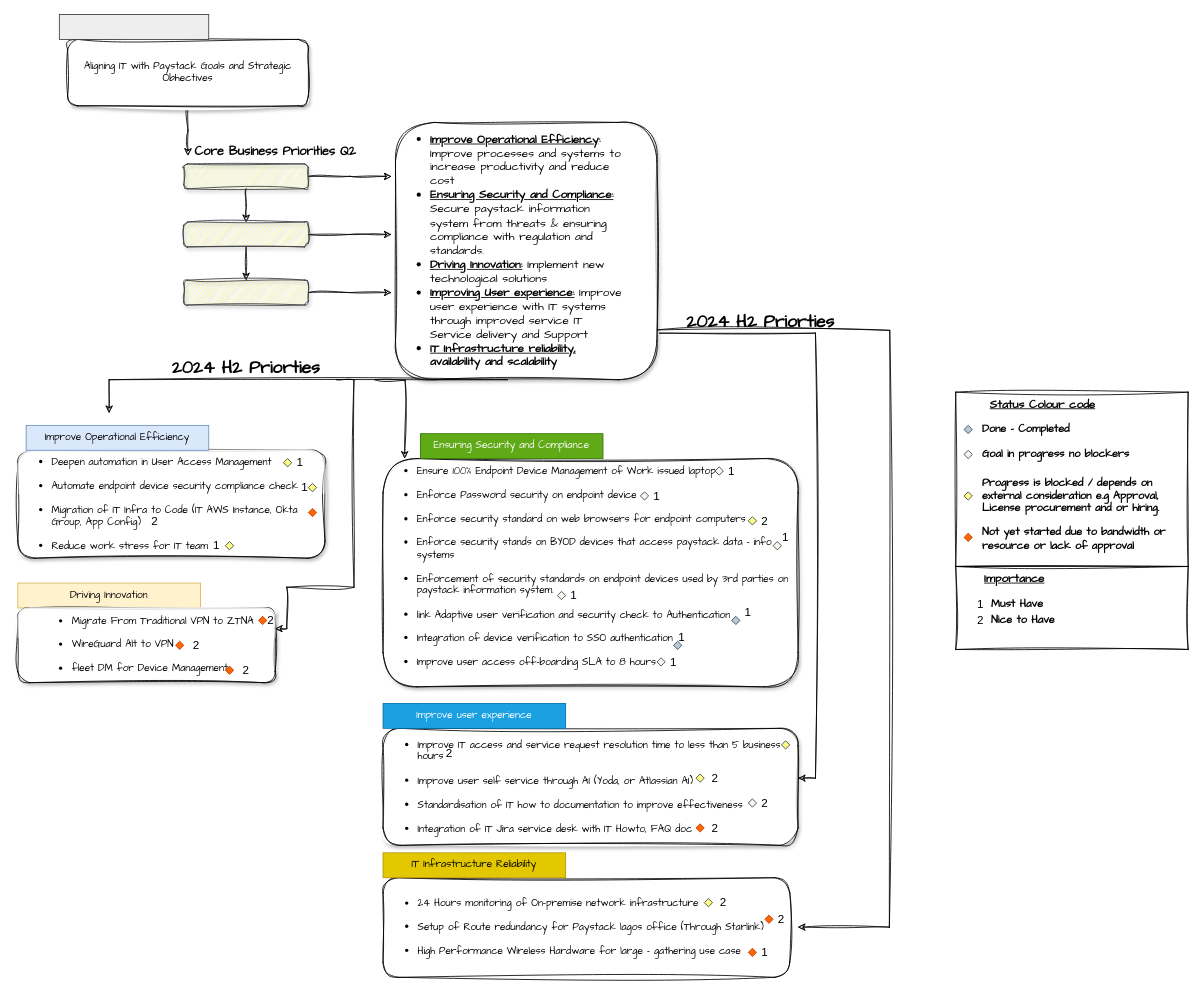
The diagram is 1203 pixels wide and 992 high, and some of its shapes have lost their labels. Each missing label, with the centre of its shape:
Financial Health: (246,177)
Infrastructure Reliability: (246,293)
Over Arching IT Goals: (134,26)
Risk and Operational Efficiency: (246,235)
